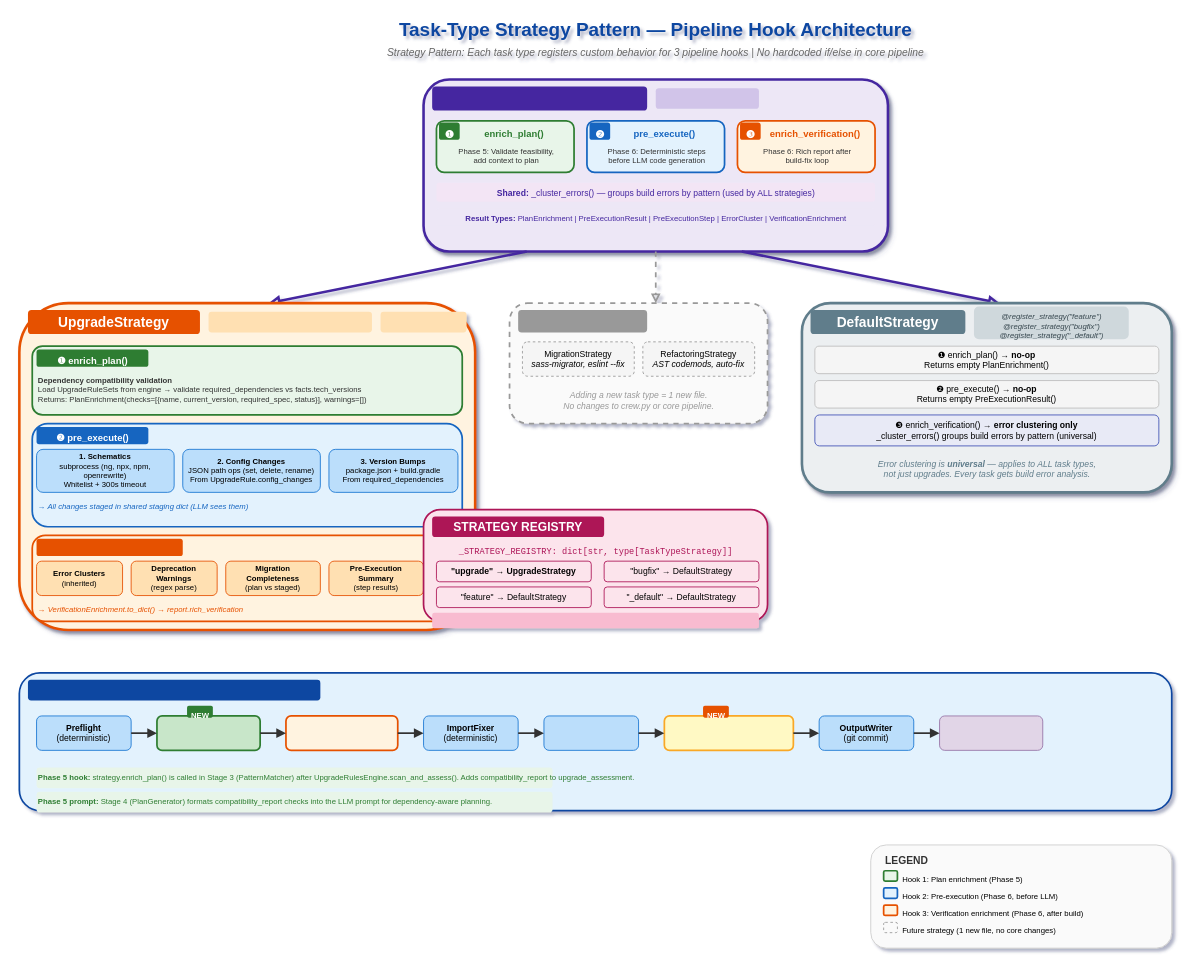
Image size: 1198x968. Some labels were removed from this diagram. Here are the shapes that lost their labels. From the top down, the centre of each, then its label:
[539,98]: TaskTypeStrategy (ABC)
[707,98]: strategies/base.py
[290,321]: @register_strategy("upgrade")
[423,321]: strategies/upgrade_strategy.py
[582,321]: Future Strategies
[109,547]: ❸ enrich_verification()
[595,620]: get_strategy(task_type) — lookup with _default fallback, never raises
[174,689]: PIPELINE INTEGRATION (crew.py:run())
[208,733]: strategy .pre_execute()
[341,733]: Build-Fix Loop (LLM, max 3x)
[591,732]: BuildVerify (subprocess)
[728,733]: strategy .enrich_verification()
[991,732]: Report JSON +rich_verification
